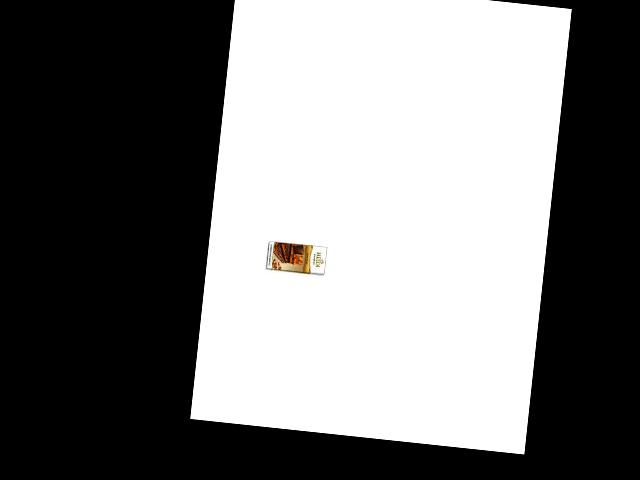chocolate: (262, 235, 331, 287)
